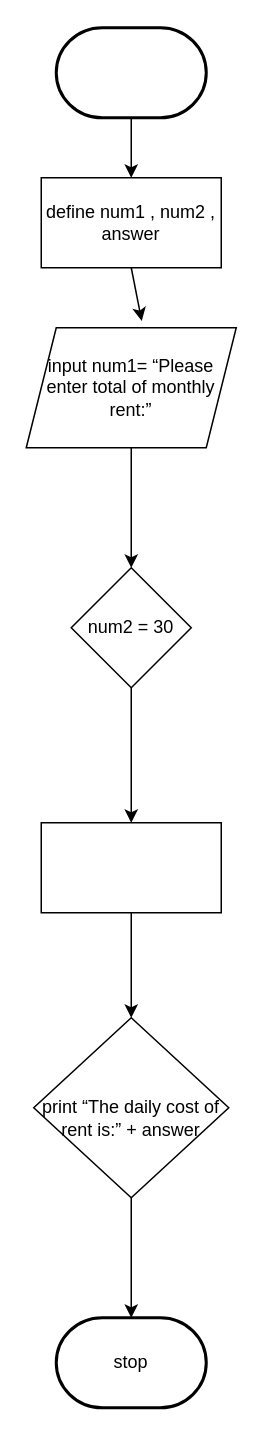
The diagram is 263 pixels wide and 1434 high, and some of its shapes have lost their labels. The box of each missing label's shape, as (x1, y1, x2, y2) in pixels:
answer = num1 / num2: (40, 821, 221, 913)
start: (54, 26, 207, 118)
